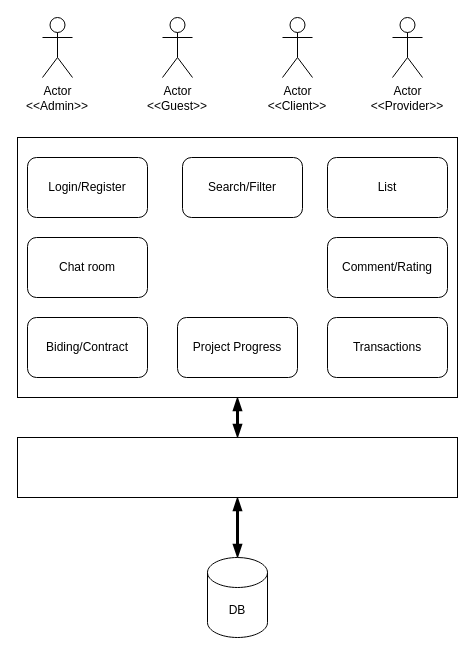
The diagram is 475 pixels wide and 655 high, and some of its shapes have lost their labels. The box of each missing label's shape, as (x1, y1, x2, y2) in pixels:
B2B Matching System: (16, 436, 458, 498)
GUI: (16, 136, 458, 398)
